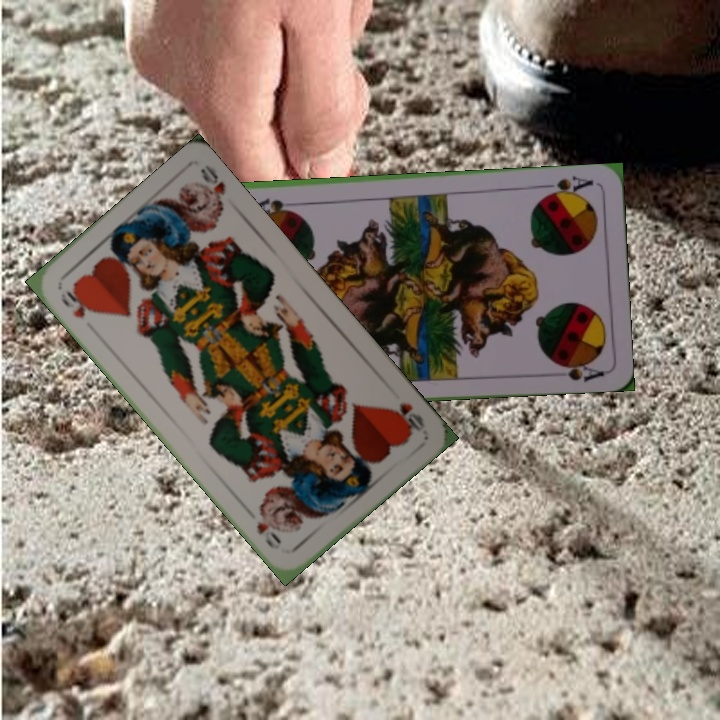HO: (386, 399, 428, 436), (56, 284, 97, 321)
SA: (538, 172, 596, 200)
